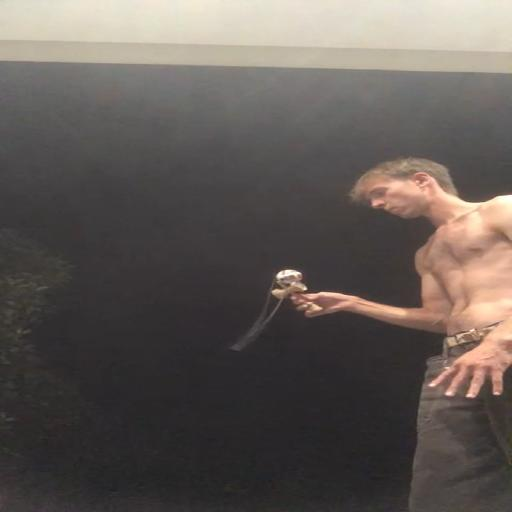kendama_ball: (275, 270, 303, 284)
